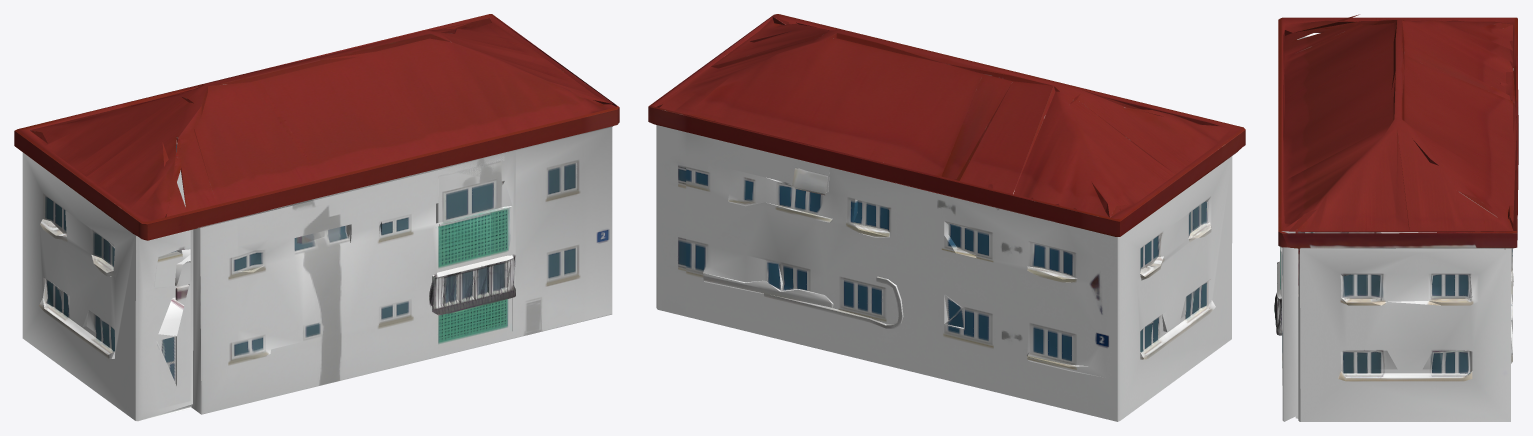
The model's file is placed_bld_406278405.glb.
3 renders of one model, left to right at view 1: azimuth 30°, elevation 25°; view 2: azimuth 150°, elevation 25°; view 3: azimuth 270°, elevation 25°, orthographic. The views are drawn at different scales.
Visible parts, largest first — view 1: bld_406278405; view 2: bld_406278405; view 3: bld_406278405.
Boxes of the visible parts, bbox=[...] form: bld_406278405: bbox=[14, 14, 619, 421]; bld_406278405: bbox=[648, 14, 1245, 421]; bld_406278405: bbox=[1274, 14, 1518, 421].
Bounding box in the file's own units: 20.96 × 11.2 × 10.05.
Materials: 1 (1 with a texture image).
